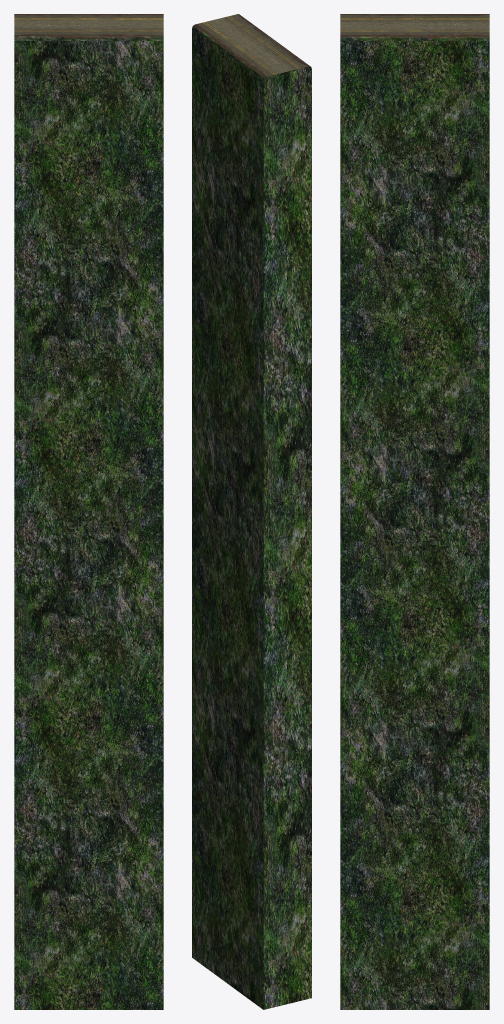
File: Straight Ramp.fbx
The picture shows the model from 3 angles, left to right: view 1: azimuth 90°, elevation 25°; view 2: azimuth 210°, elevation 25°; view 3: azimuth 270°, elevation 25°; orthographic projection. The views are drawn at different scales.
Visible parts, largest first — view 1: Straight Ramp; view 2: Straight Ramp; view 3: Straight Ramp.
Part boxes in pixels (x1,y1,x2,y2): Straight Ramp: (14, 14, 163, 1009); Straight Ramp: (192, 14, 311, 1009); Straight Ramp: (340, 14, 489, 1009).
Bounding box in the file's own units: 410 × 7538 × 1047.
